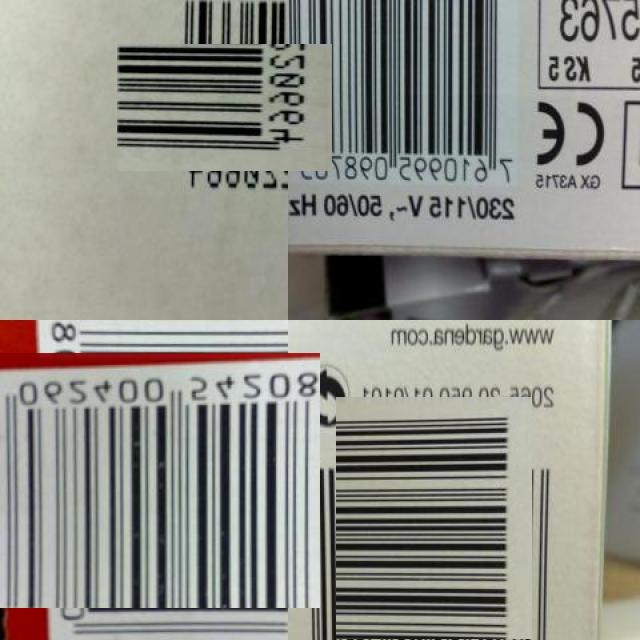Barcode: (16, 336, 304, 624), (312, 420, 556, 640), (288, 0, 523, 191), (139, 22, 310, 194)
